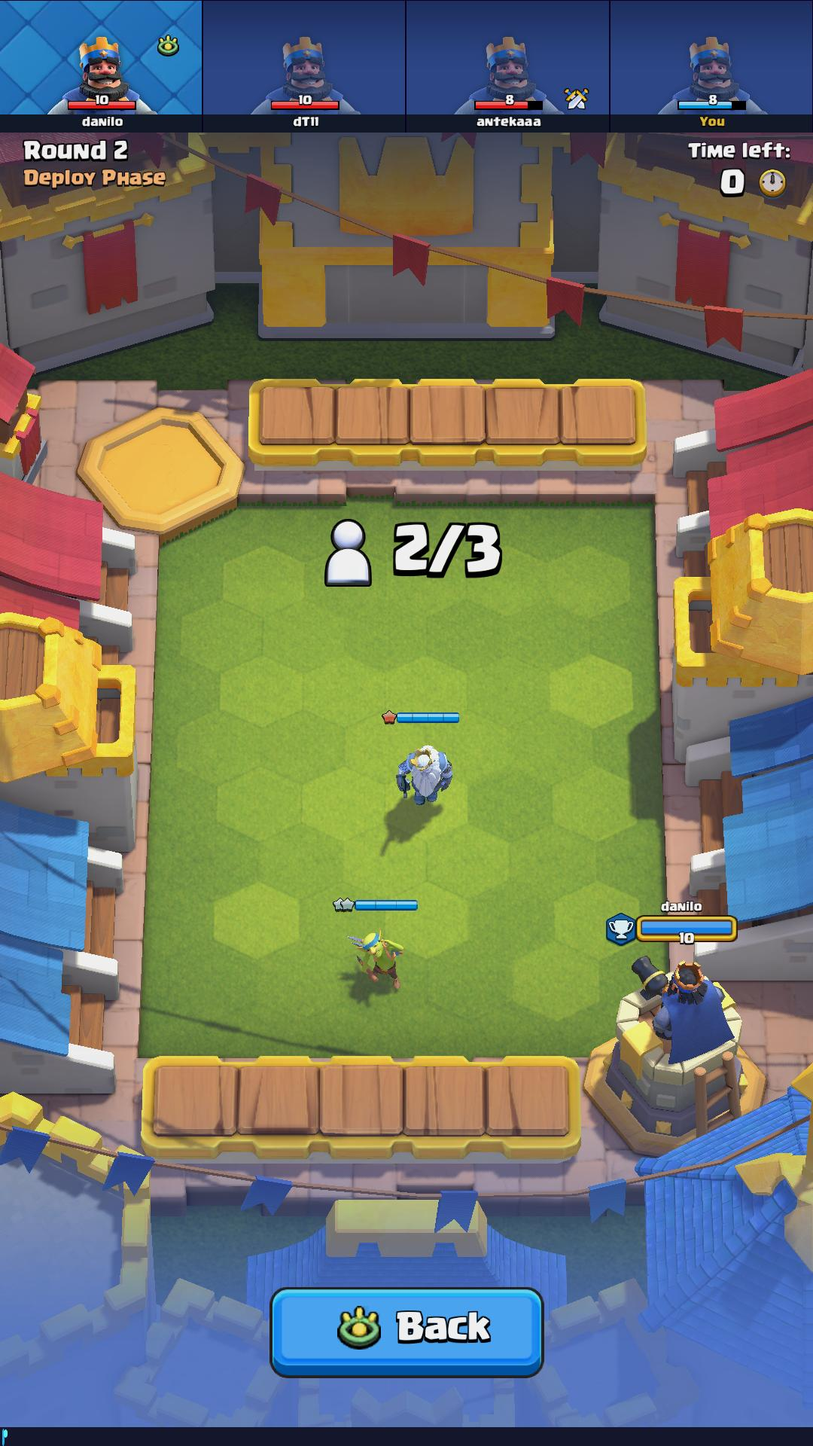ghost: (375, 729, 463, 804)
spear: (338, 918, 418, 998)
